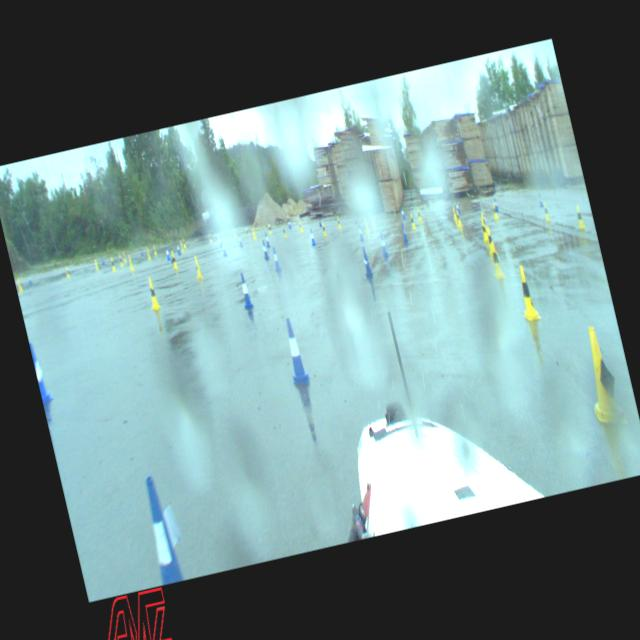blue_cone: (138, 474, 183, 584), (280, 316, 310, 384), (29, 342, 53, 402), (236, 272, 252, 308), (360, 247, 372, 276), (270, 247, 281, 271), (378, 232, 388, 254), (399, 222, 408, 242), (260, 240, 268, 258), (308, 228, 316, 245), (220, 240, 228, 257), (356, 223, 363, 239), (263, 231, 270, 247), (236, 232, 243, 246), (454, 200, 460, 216), (163, 245, 170, 258), (492, 196, 498, 211), (536, 192, 542, 206), (399, 206, 405, 218), (27, 272, 31, 284), (176, 242, 180, 254), (286, 217, 290, 227), (244, 224, 248, 233), (318, 217, 322, 226), (215, 231, 218, 239)
yellow_cone: (576, 323, 625, 428), (512, 264, 541, 322), (487, 243, 505, 280), (145, 277, 160, 310), (484, 226, 497, 253), (574, 206, 585, 230), (192, 255, 203, 278), (542, 202, 551, 222), (480, 222, 489, 242), (479, 212, 487, 231), (170, 250, 178, 268), (454, 209, 462, 227), (491, 202, 498, 220), (450, 204, 457, 220), (415, 208, 422, 222), (408, 214, 415, 228), (109, 256, 116, 270), (128, 256, 134, 271), (336, 216, 342, 229), (369, 212, 375, 225), (64, 266, 70, 278), (16, 278, 22, 290), (92, 258, 98, 270), (321, 222, 326, 236), (281, 225, 286, 238), (364, 219, 369, 232), (267, 222, 272, 234), (146, 248, 152, 258), (207, 232, 212, 242), (122, 252, 127, 262), (298, 220, 302, 232), (118, 255, 122, 266), (232, 226, 236, 237), (182, 237, 186, 247), (252, 228, 256, 238), (152, 244, 156, 253), (180, 240, 183, 250)
